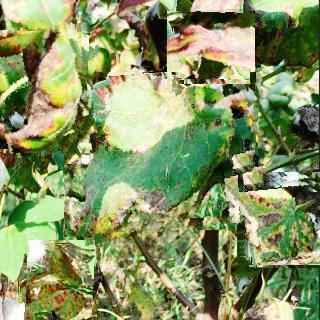blight: (0, 25, 96, 153), (238, 174, 320, 265), (171, 5, 250, 84), (20, 245, 100, 320)
leaf spot: (64, 72, 264, 238)
